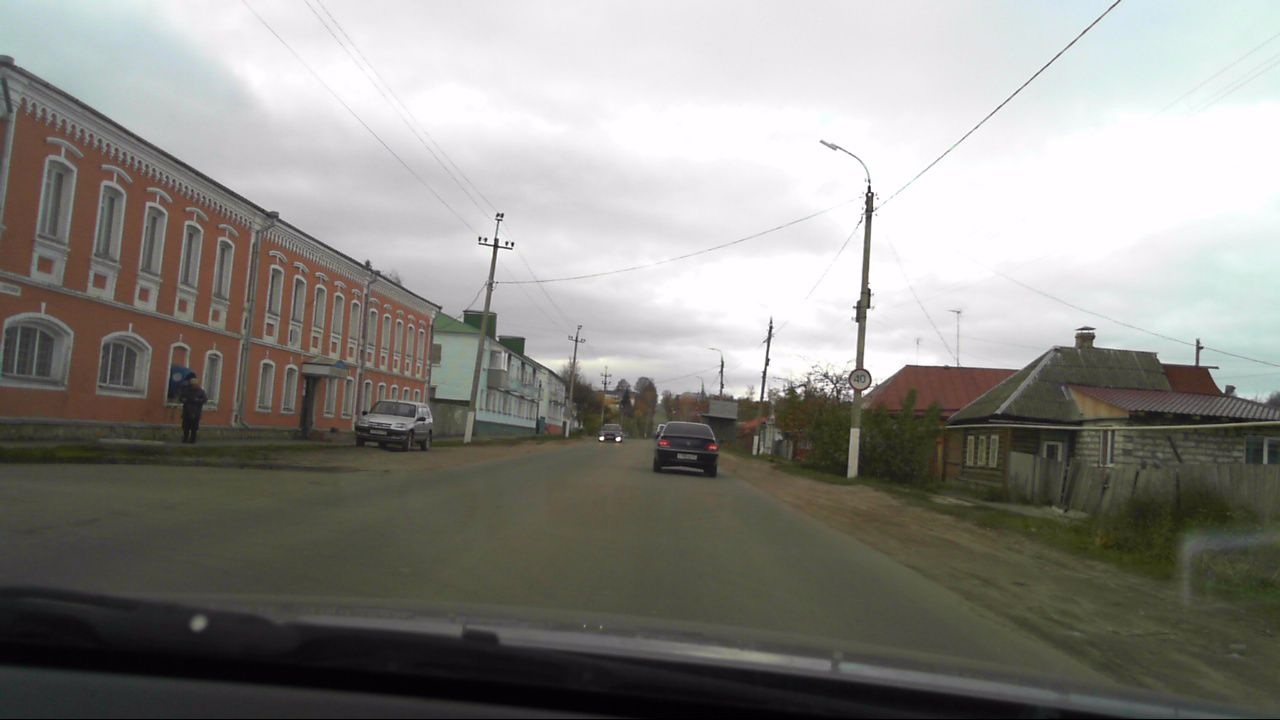speed_warning_40: (847, 368, 873, 392)
